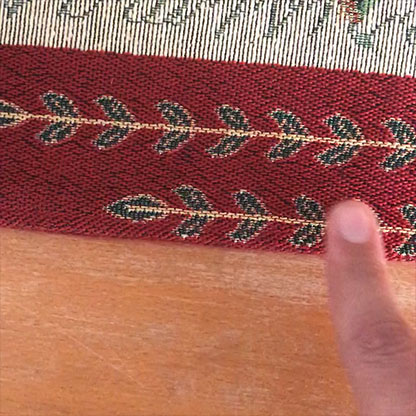fingertip: (306, 190, 389, 270)
